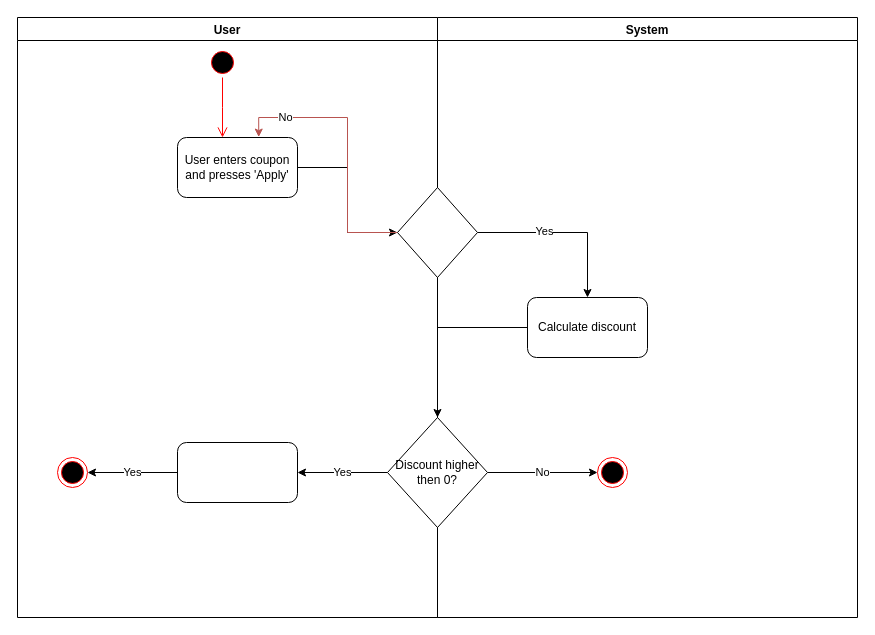
Image size: 875x635. Some labels were removed from this diagram. Here are the shapes that lost their labels. From the top down, the centre of each, then its label:
At (437,232): "Coupon is applicable?".
At (237,472): "User can see amount of discount and new price".
